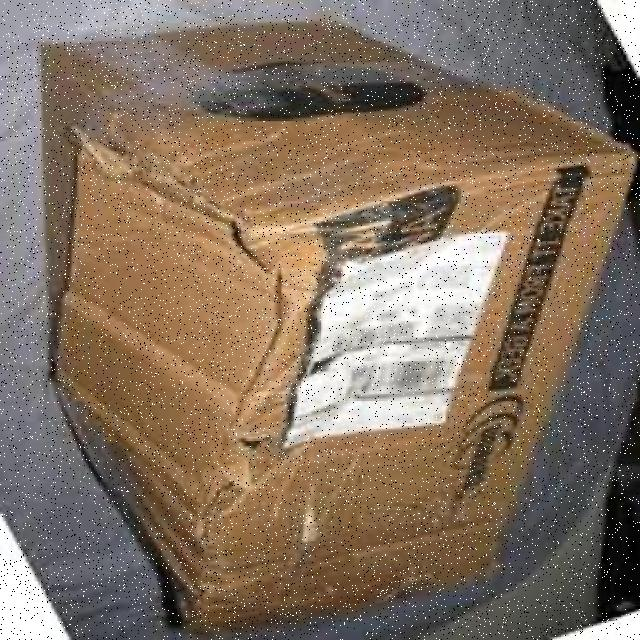defect: (21, 16, 638, 638)
